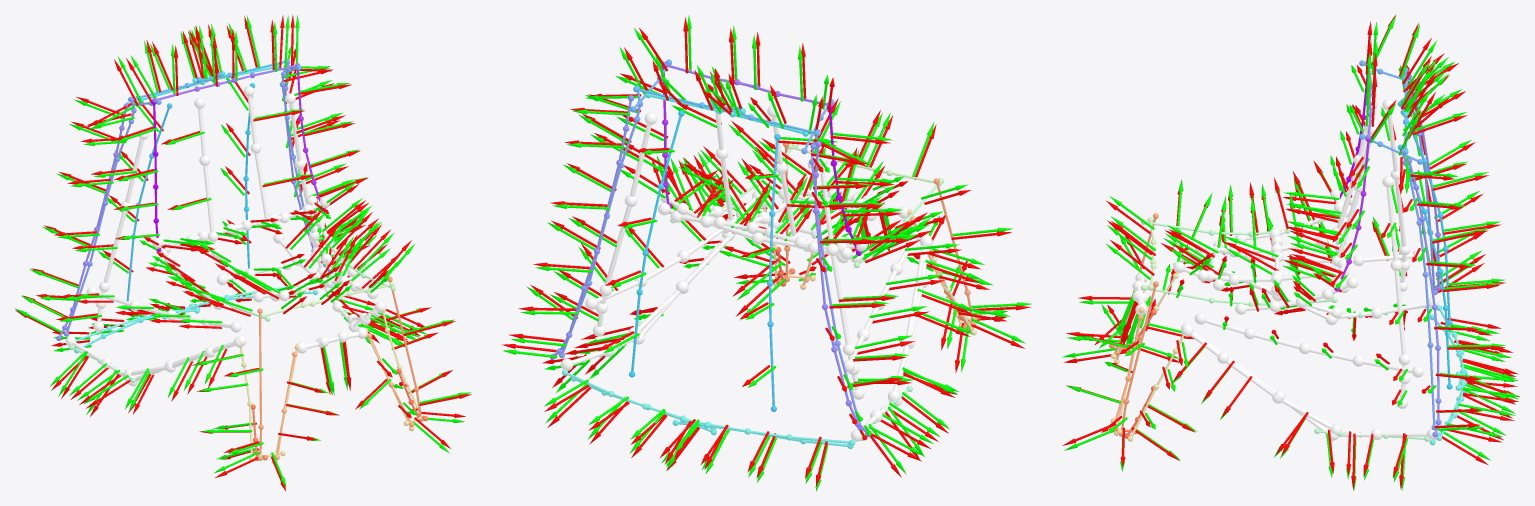
Rendered from author1_chair_ff.gltf.
3 views of the same model, side by side, from view 1: azimuth 30°, elevation 25°; view 2: azimuth 150°, elevation 25°; view 3: azimuth 270°, elevation 25° (orthographic). The views are drawn at different scales.
Size of the model in its own units: 0.6968 by 0.6941 by 0.7811.
